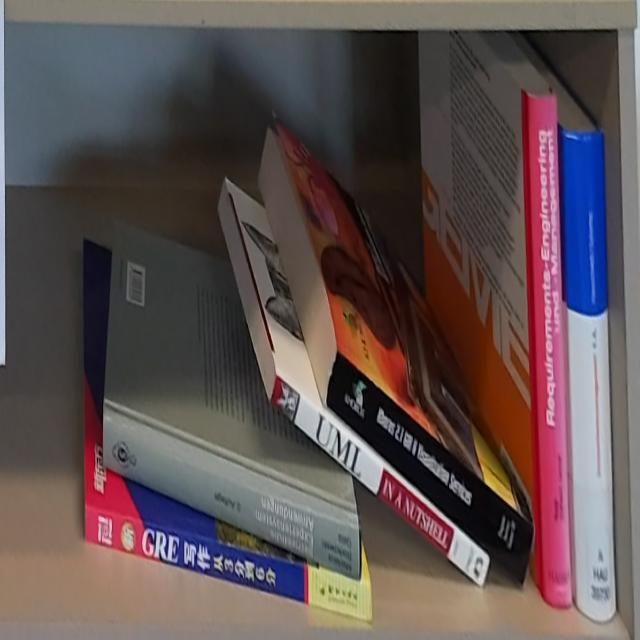Book Spine: (325, 346, 533, 593), (271, 371, 492, 591), (103, 406, 362, 585), (83, 498, 373, 631), (561, 125, 617, 626), (520, 94, 573, 611)
